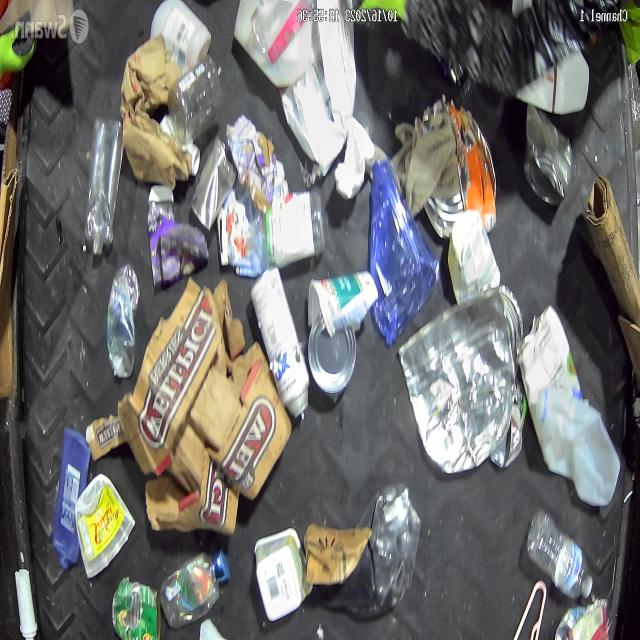can: (398, 287, 512, 475), (418, 100, 497, 238), (250, 265, 310, 421), (516, 304, 583, 399), (522, 111, 574, 205), (189, 138, 237, 231), (308, 315, 356, 393), (112, 576, 162, 640), (490, 409, 527, 469)
milk_jug: (536, 386, 621, 506), (233, 0, 313, 85), (282, 85, 347, 177), (447, 212, 501, 304), (149, 0, 211, 69)
plastic_bottle: (526, 506, 593, 602), (158, 546, 230, 629), (84, 117, 124, 254), (106, 264, 140, 380)
